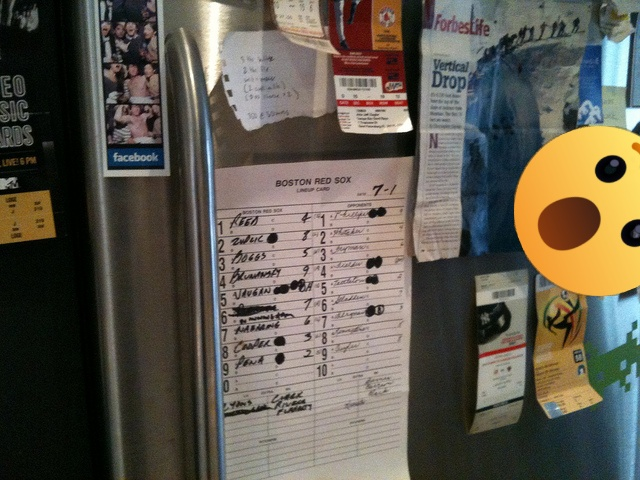wow: (514, 126, 640, 296)
